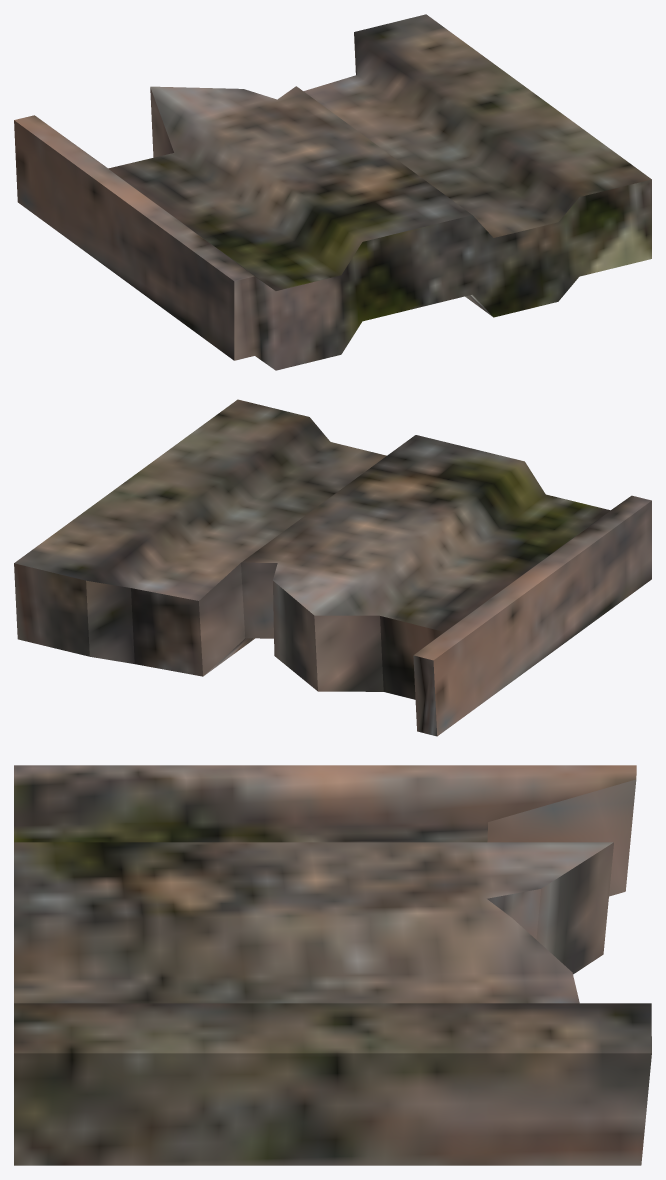
Rendered from SM_OldCeramicRoofTiles_01_17_tile.fbx.
3 renders of one model, top to bottom at view 1: azimuth 30°, elevation 25°; view 2: azimuth 150°, elevation 25°; view 3: azimuth 270°, elevation 25°, orthographic. The views are drawn at different scales.
Visible parts, largest first — view 1: sm_OldCeramicRoofTiles_01_17_tile_LOD0; view 2: sm_OldCeramicRoofTiles_01_17_tile_LOD0; view 3: sm_OldCeramicRoofTiles_01_17_tile_LOD0.
Part boxes in pixels (left/top/right/bottom): sm_OldCeramicRoofTiles_01_17_tile_LOD0: left=14, top=14, right=651, bottom=370; sm_OldCeramicRoofTiles_01_17_tile_LOD0: left=14, top=399, right=651, bottom=736; sm_OldCeramicRoofTiles_01_17_tile_LOD0: left=14, top=765, right=651, bottom=1165.
Bounding box in the file's own units: 33.1 × 35.37 × 8.71.
